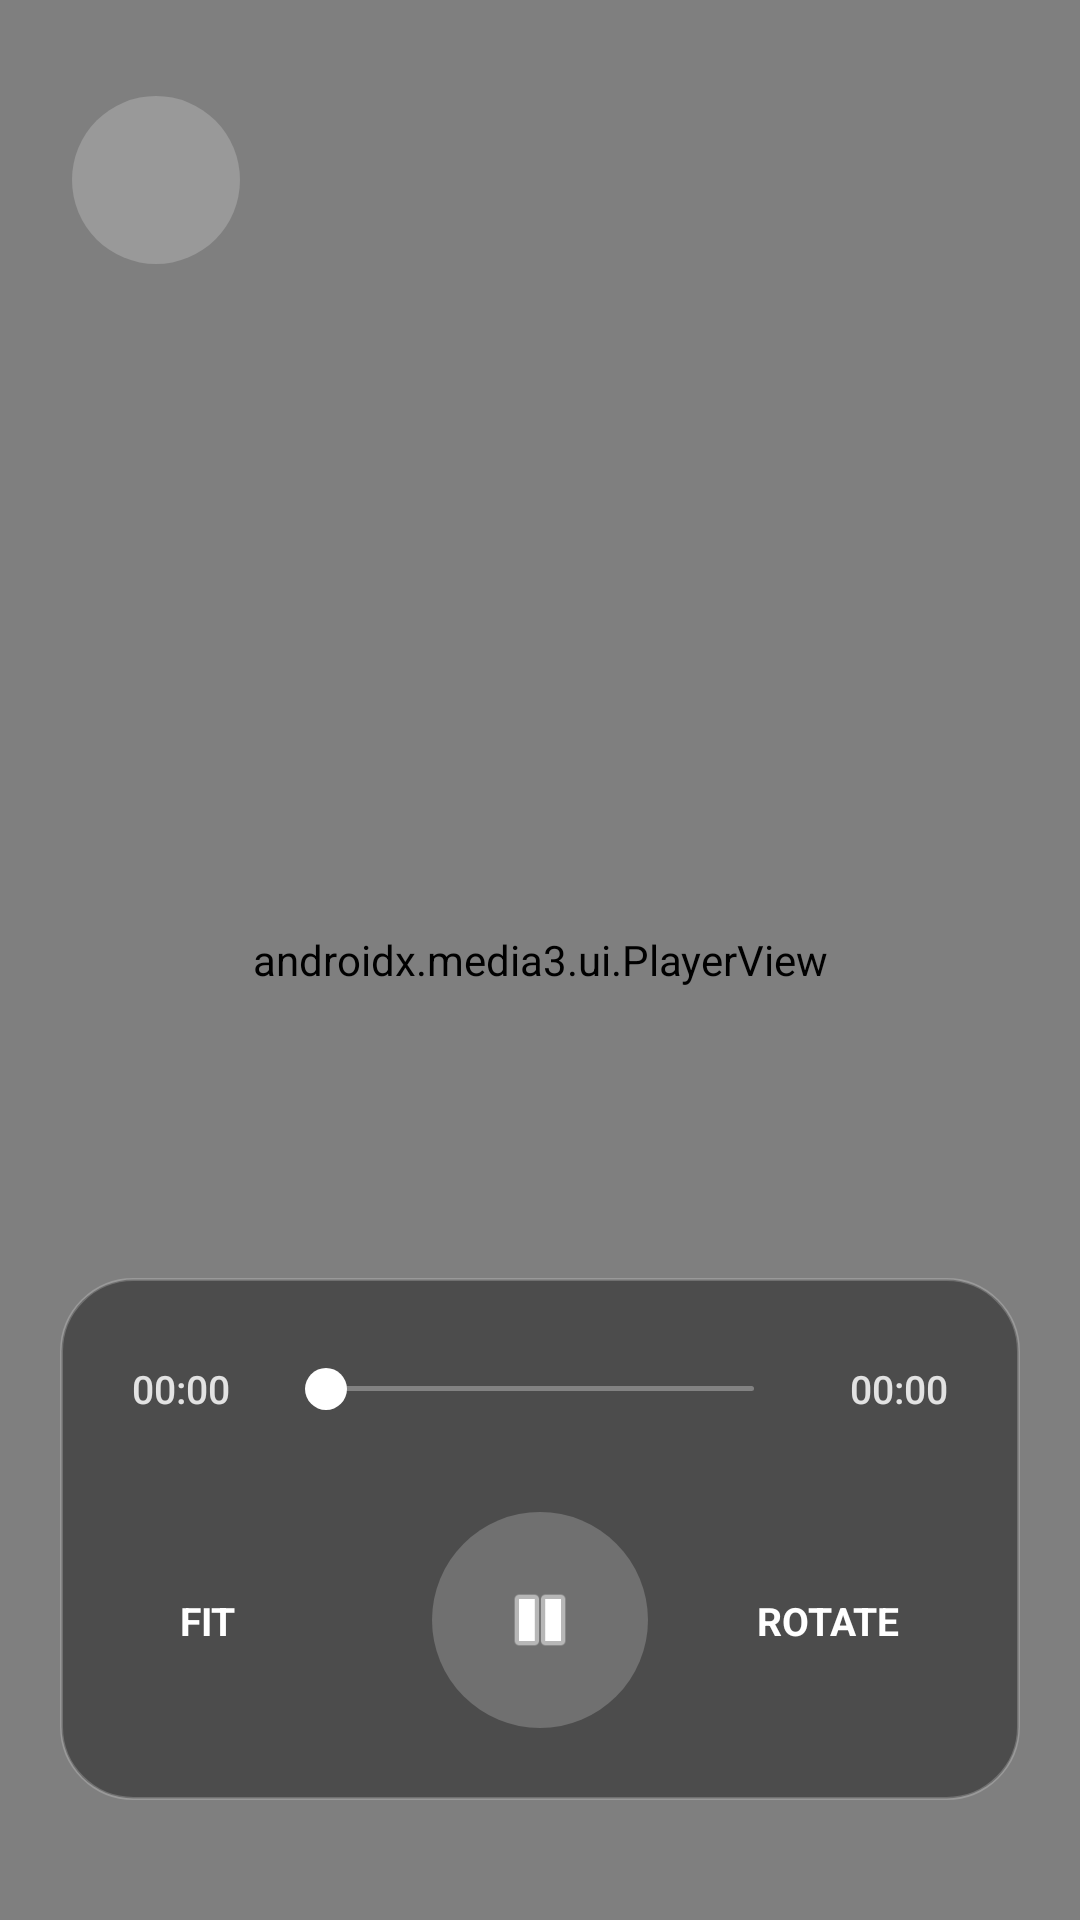

Named icons in this screenshot (1080px×1920px) and their centers, (x=x, y=y):
pause: (x=540, y=1620)
